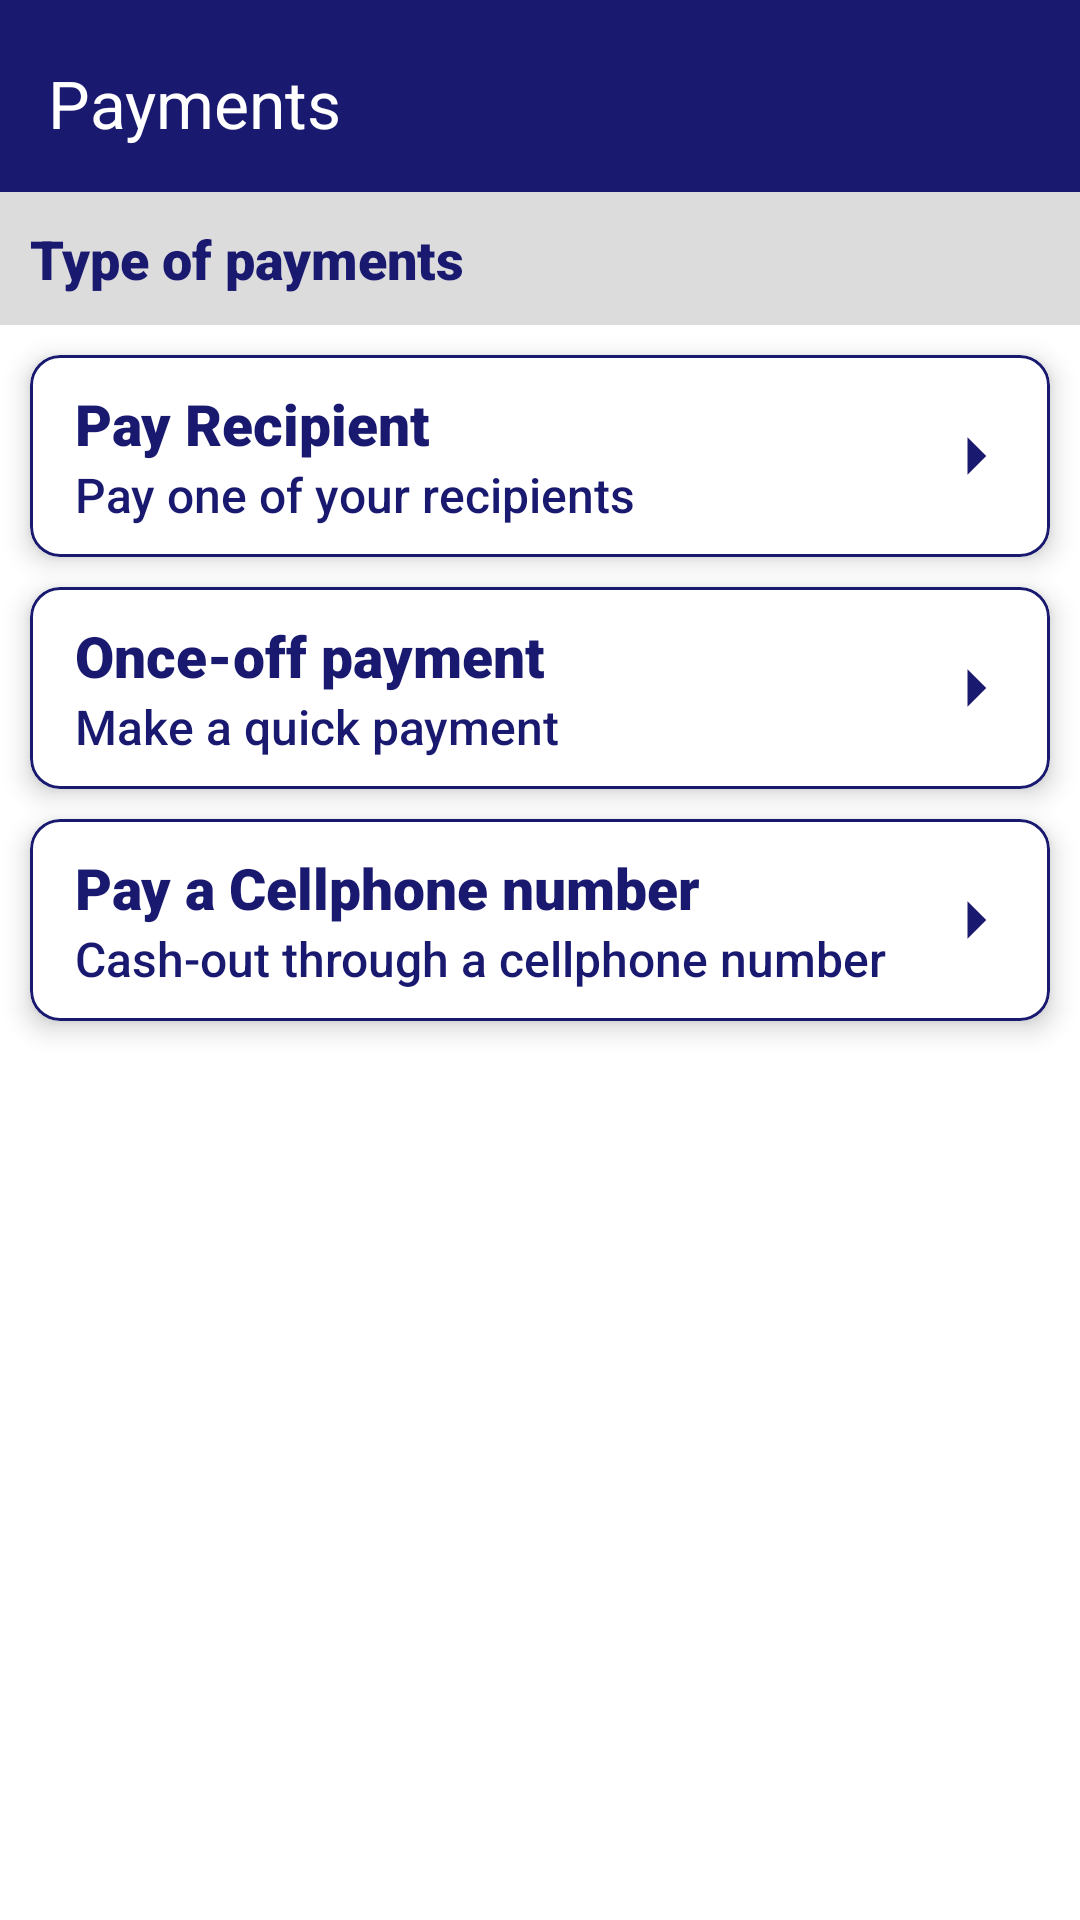

Icons on this 1080w x 1920h Android screen, each with its box as (x1, y1, x2, y2):
rec right: (967, 437, 986, 475), (967, 669, 986, 707), (967, 901, 986, 939)
